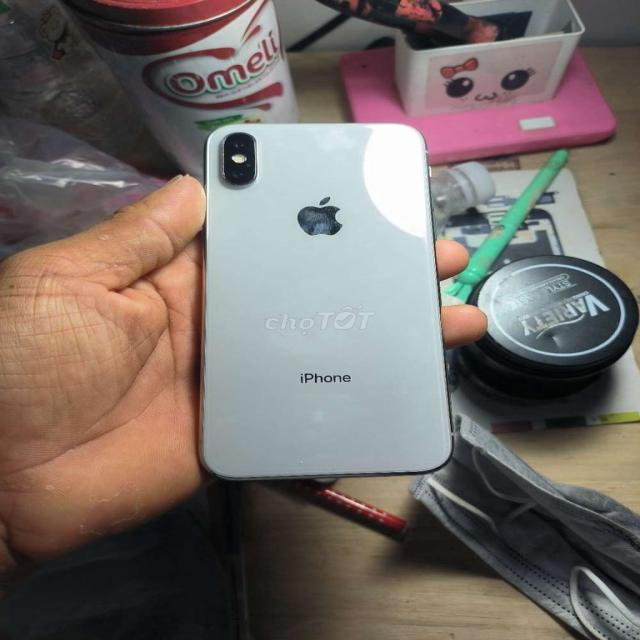gen_x_xs: (197, 119, 459, 493)
